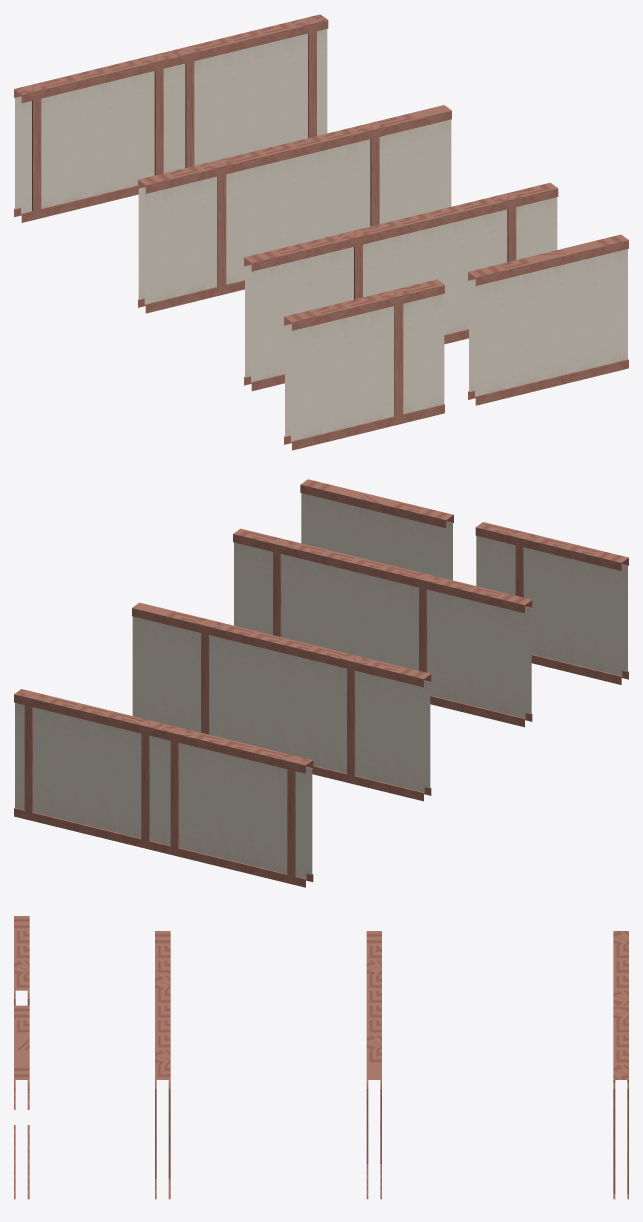
The model's file is Set_paredes_low.fbx.
The picture shows the model from 3 angles, top to bottom: view 1: azimuth 30°, elevation 25°; view 2: azimuth 150°, elevation 25°; view 3: azimuth 270°, elevation 25°; orthographic projection. The views are drawn at different scales.
Visible parts, largest first — view 1: x4_Base_x10_v3, x4_Base_x10_v2, x4_Base_x10_v1, x4_Base_x5_Soporte, x4_Base_x5; view 2: x4_Base_x10_v3, x4_Base_x10_v2, x4_Base_x10_v1, x4_Base_x5_Soporte, x4_Base_x5; view 3: x4_Base_x10_v1, x4_Base_x10_v3, x4_Base_x10_v2, x4_Base_x5, x4_Base_x5_Soporte.
Boxes of the visible parts, x1,y1,x2,y2 form: x4_Base_x10_v3: (14,14,328,222); x4_Base_x10_v2: (138,105,451,313); x4_Base_x10_v1: (244,182,558,391); x4_Base_x5_Soporte: (284,279,444,450); x4_Base_x5: (468,234,628,405); x4_Base_x10_v3: (14,689,313,887); x4_Base_x10_v2: (132,602,431,801); x4_Base_x10_v1: (233,528,532,727); x4_Base_x5_Soporte: (475,522,628,684); x4_Base_x5: (300,479,453,580); x4_Base_x10_v1: (155,931,170,1199); x4_Base_x10_v3: (613,931,628,1199); x4_Base_x10_v2: (366,931,381,1199); x4_Base_x5: (14,1005,29,1199); x4_Base_x5_Soporte: (14,916,29,1109).
Bounding box in the file's own units: 1100 × 400 × 1744.
Materials: 2 (2 with a texture image).
